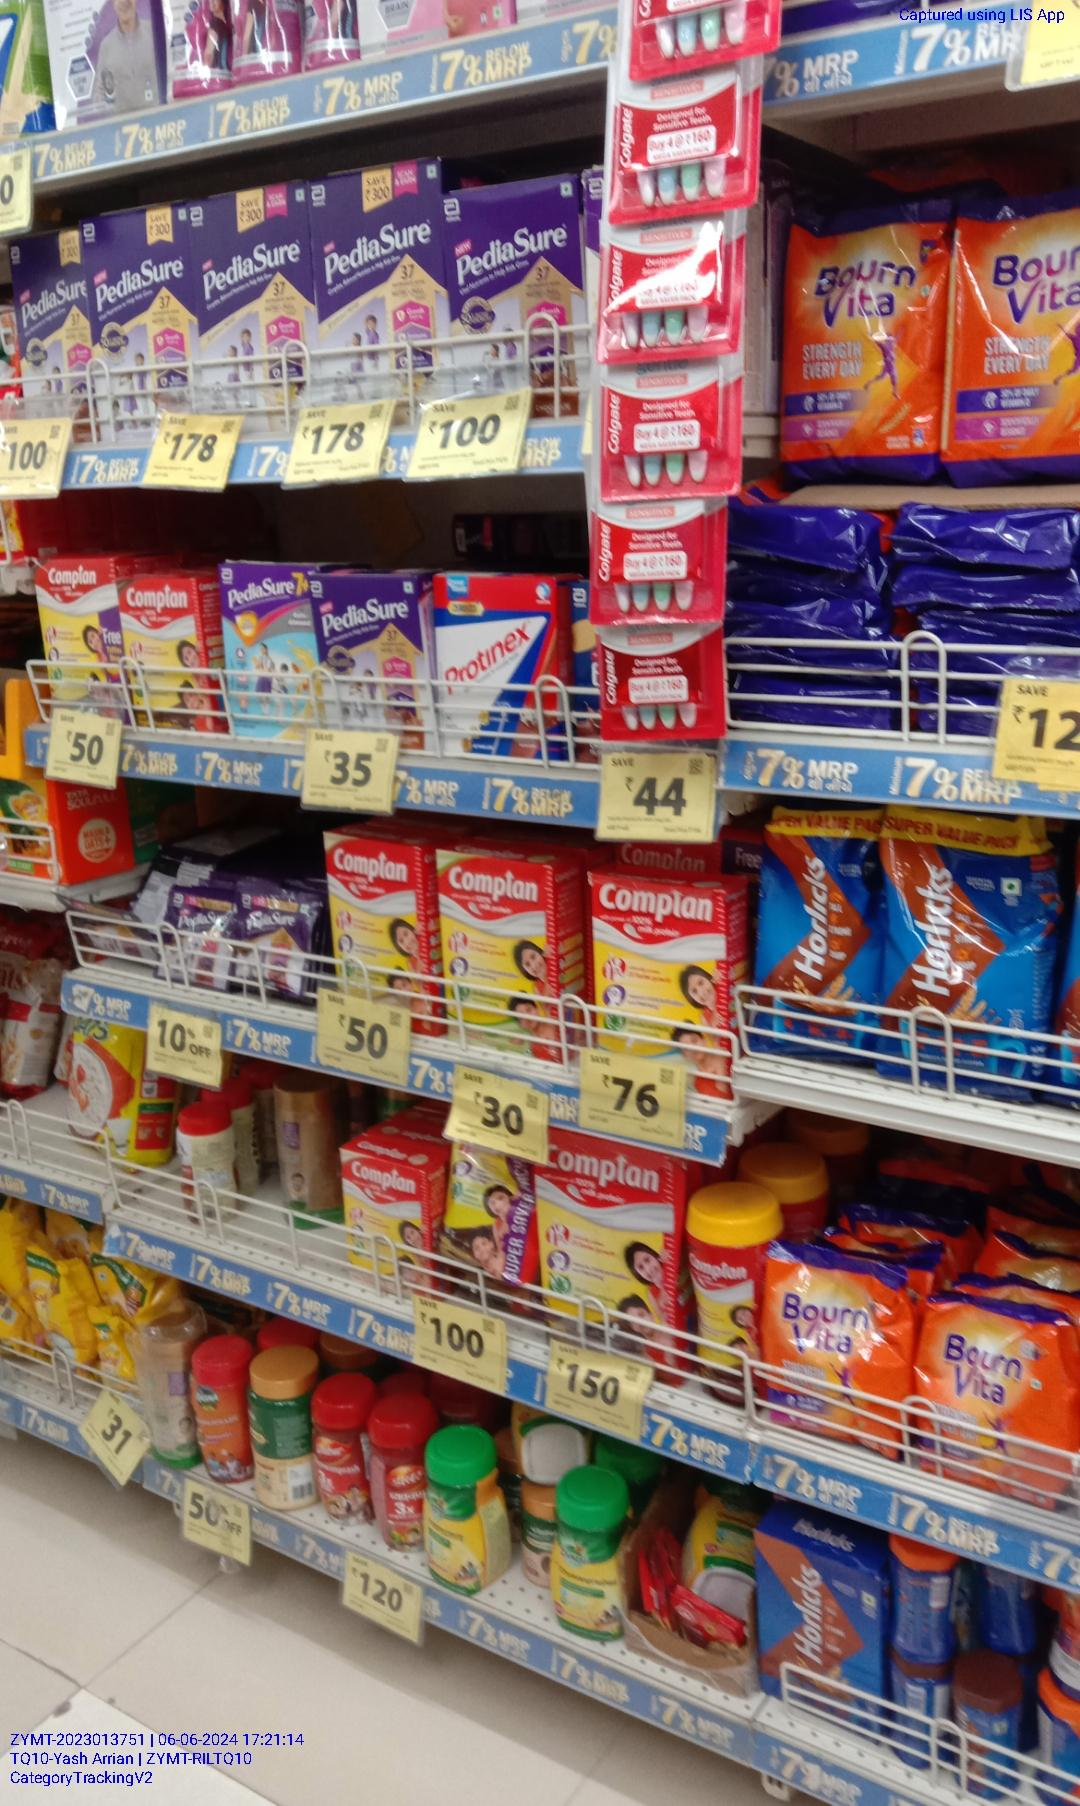BOURN_VITA_750_G_POUCH: (780, 202, 945, 483), (951, 192, 1080, 483)
COMPLAN_CHOCOLATE_500_GMS_JAR: (685, 1185, 762, 1395)
COMPLAN_CREAMY_CLASSIC_500_G_PACK: (589, 873, 724, 1095)
COMPLAN_PISTA_BADAM_500_GMS_PACK: (436, 850, 558, 1058)
HORLICK_CHOCOLATE_500_G_PACK: (760, 1540, 877, 1721)
